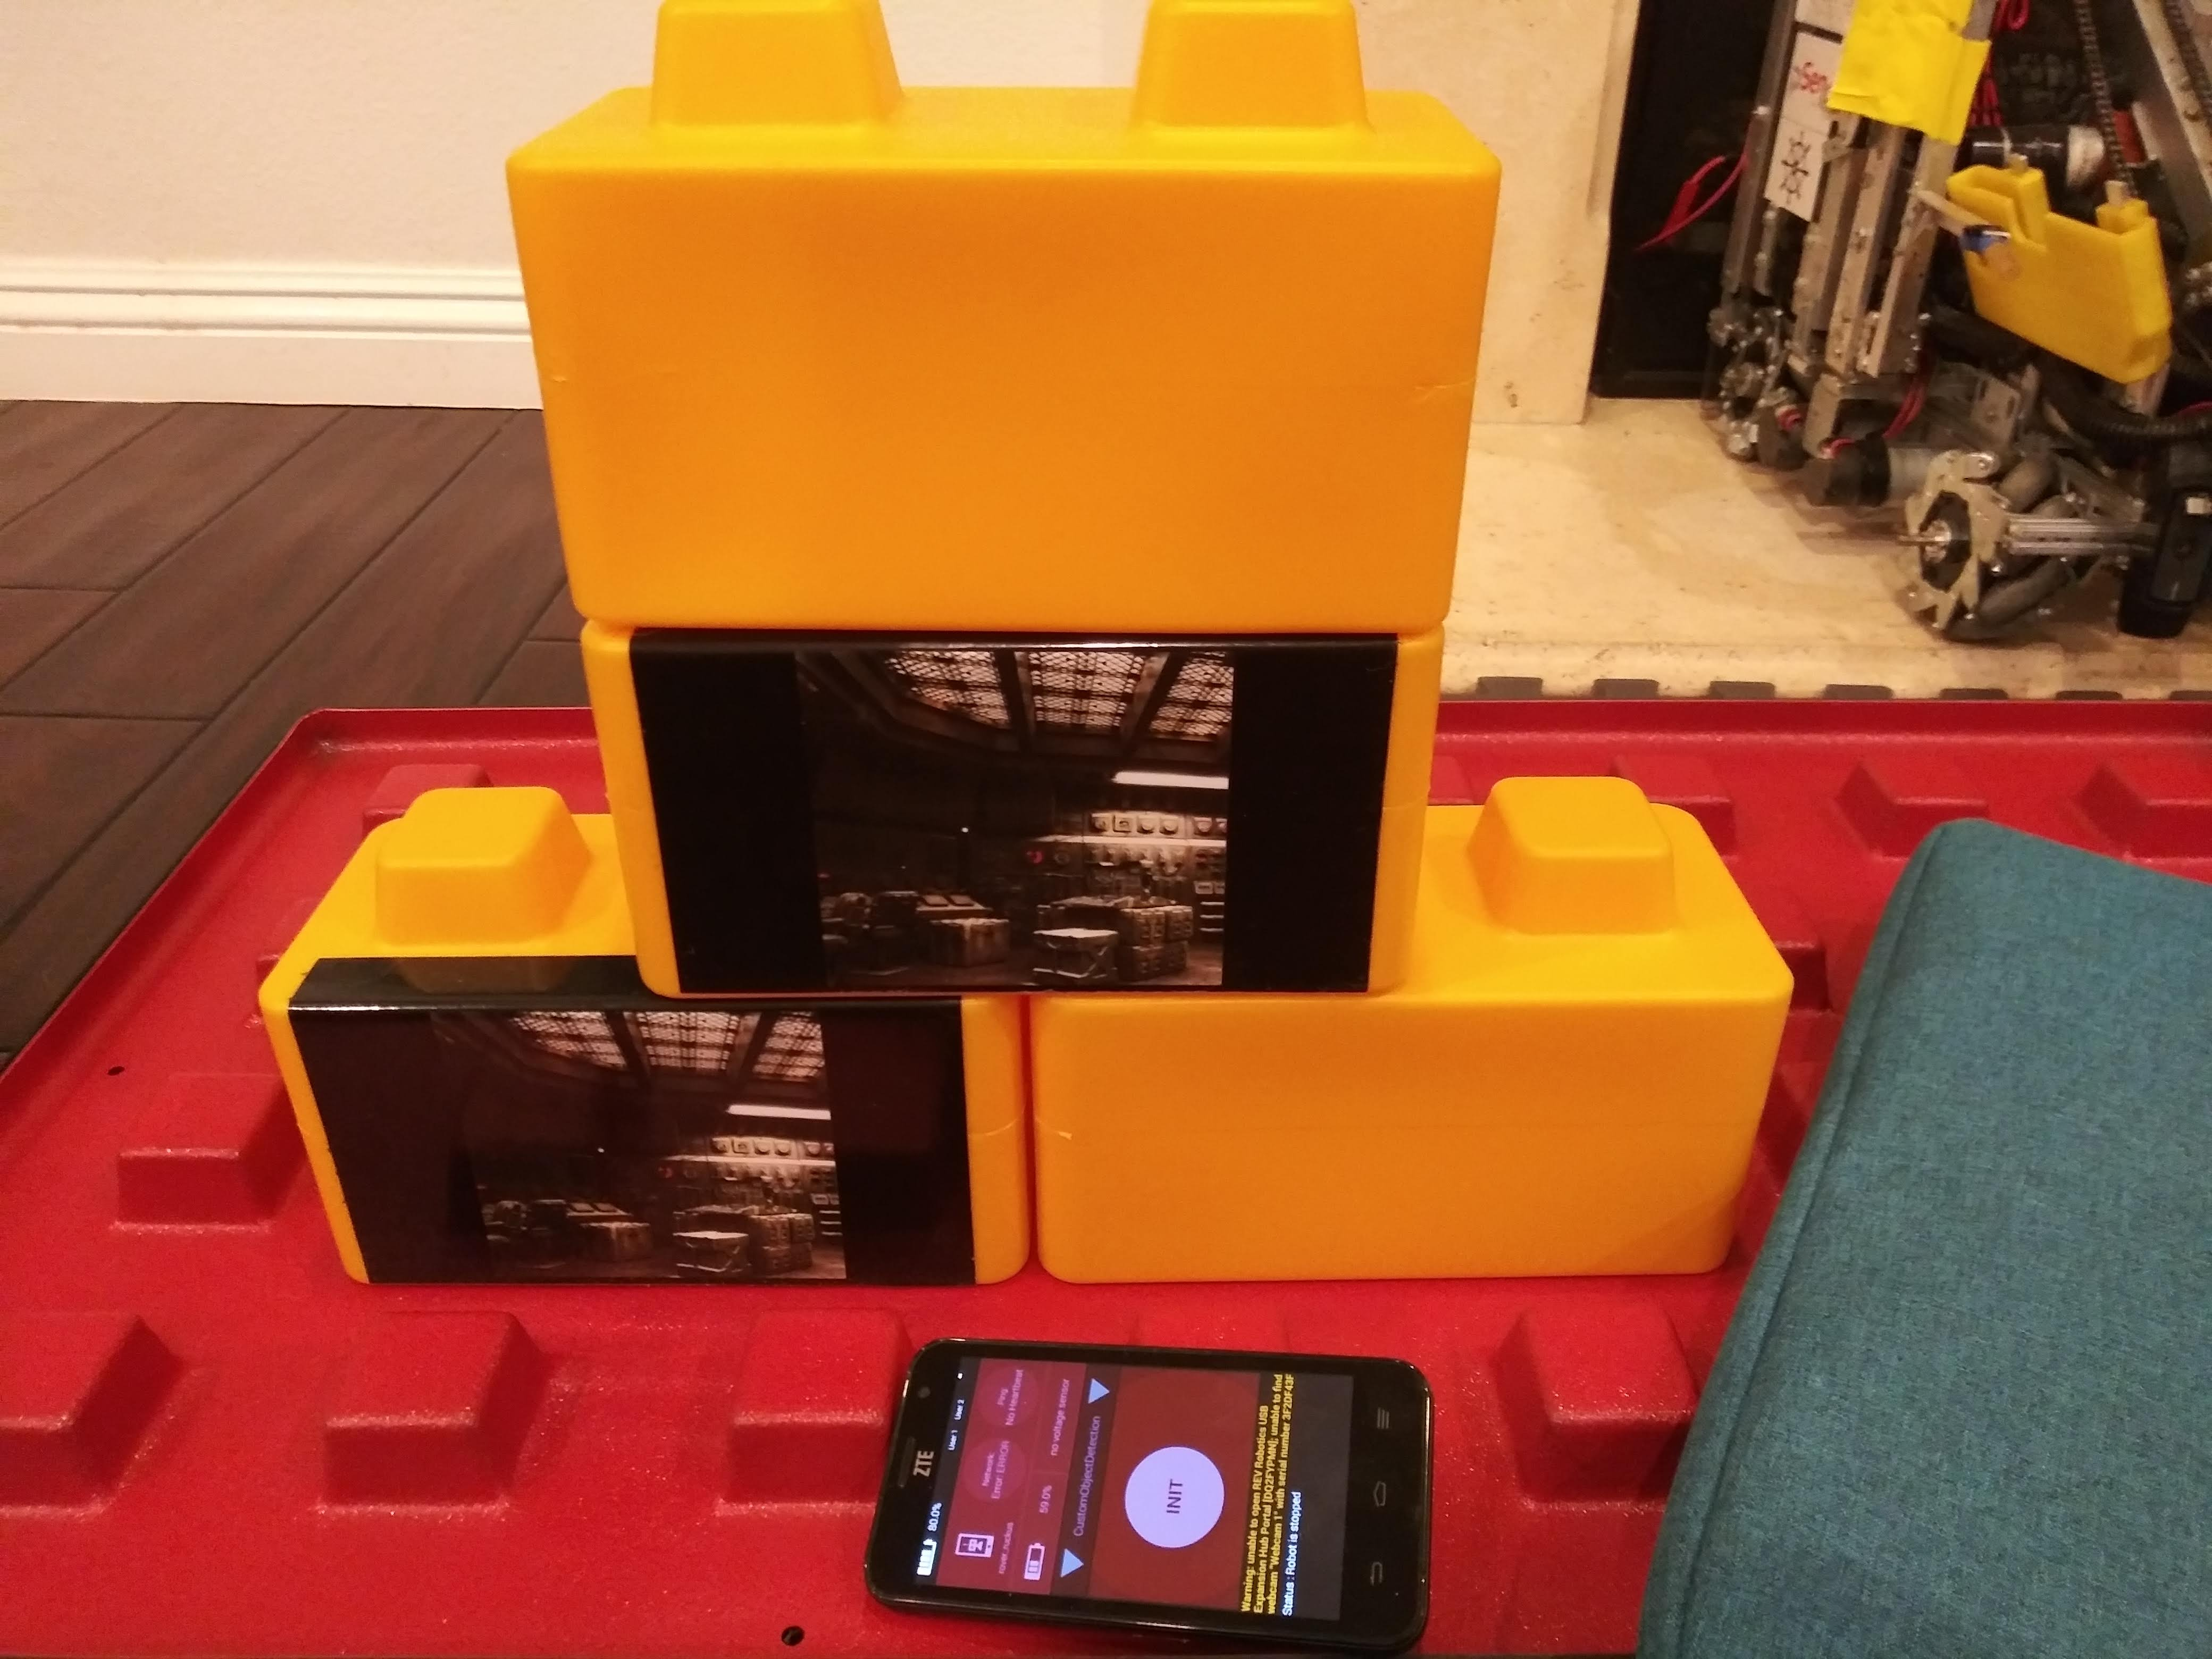skystone: (571, 636, 1444, 999), (246, 985, 1014, 1303)
stone: (502, 54, 1501, 612), (1029, 997, 1764, 1284)
